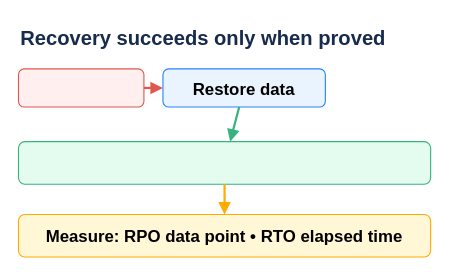
Some shapes in this 449 by 276 pixel diagram are drawn without their labels. Each missing label, with the centre of its shape:
"Failure" goes at [80,87].
"Validate then switch traffic" goes at [224,162].
